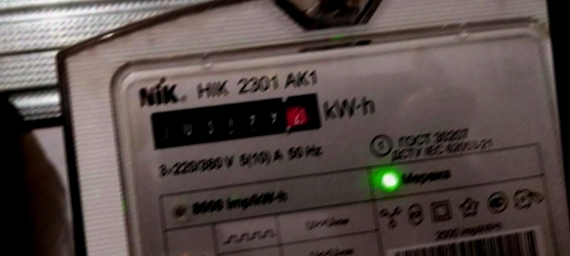0: (180, 117, 193, 137), (157, 120, 168, 139)
1: (223, 109, 234, 128)
3: (202, 114, 214, 135)
6: (290, 110, 301, 125)
9: (244, 106, 256, 127), (266, 106, 278, 124)
screen: (141, 83, 328, 156)
